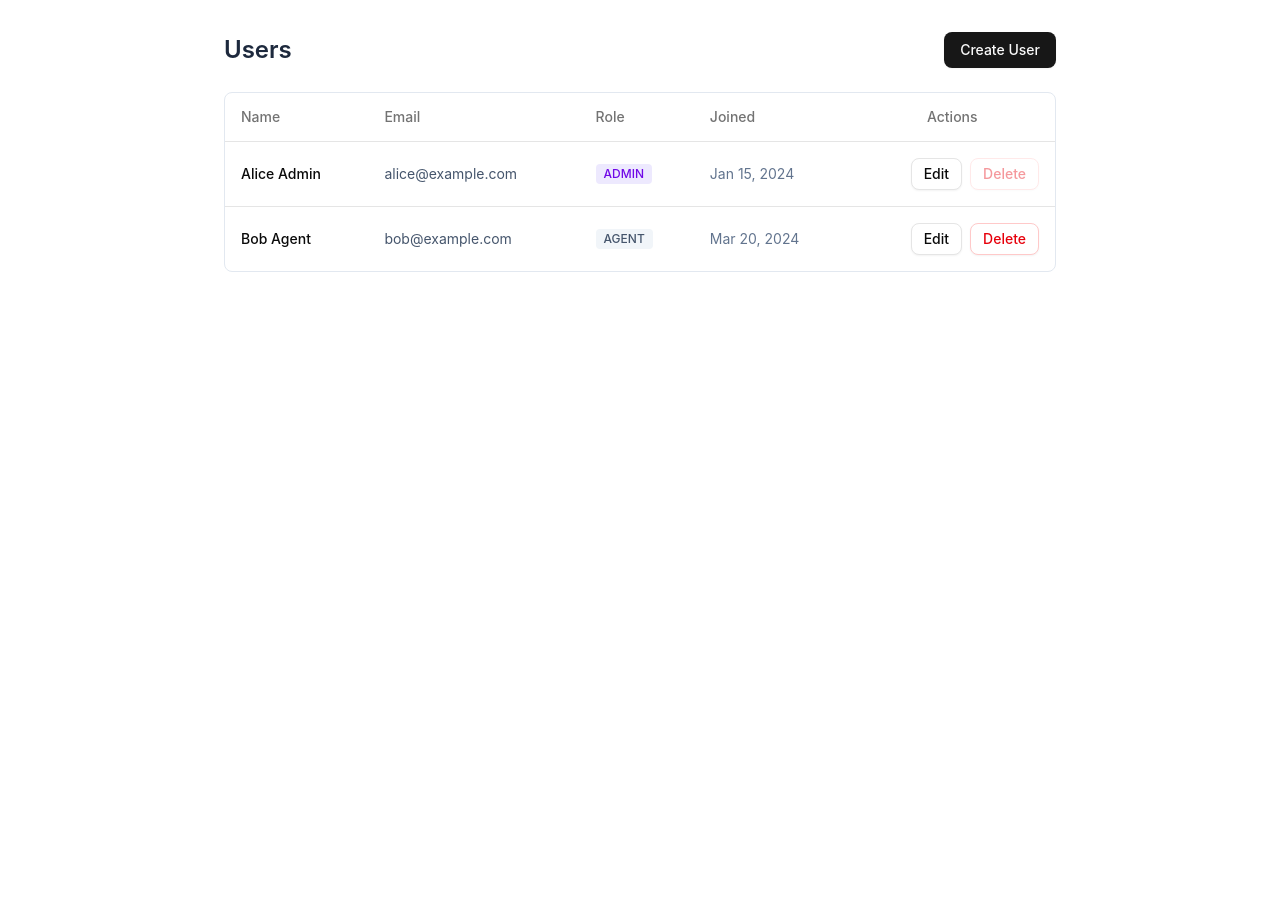
Test: UsersPage › modal › opens the Edit User modal when Edit is clicked
Expected: the text "Alice Admin" is shown, [225,141,368,206]
Click the button "Edit" in the row of "Alice Admin" at (936, 174), box [911,158,962,190]
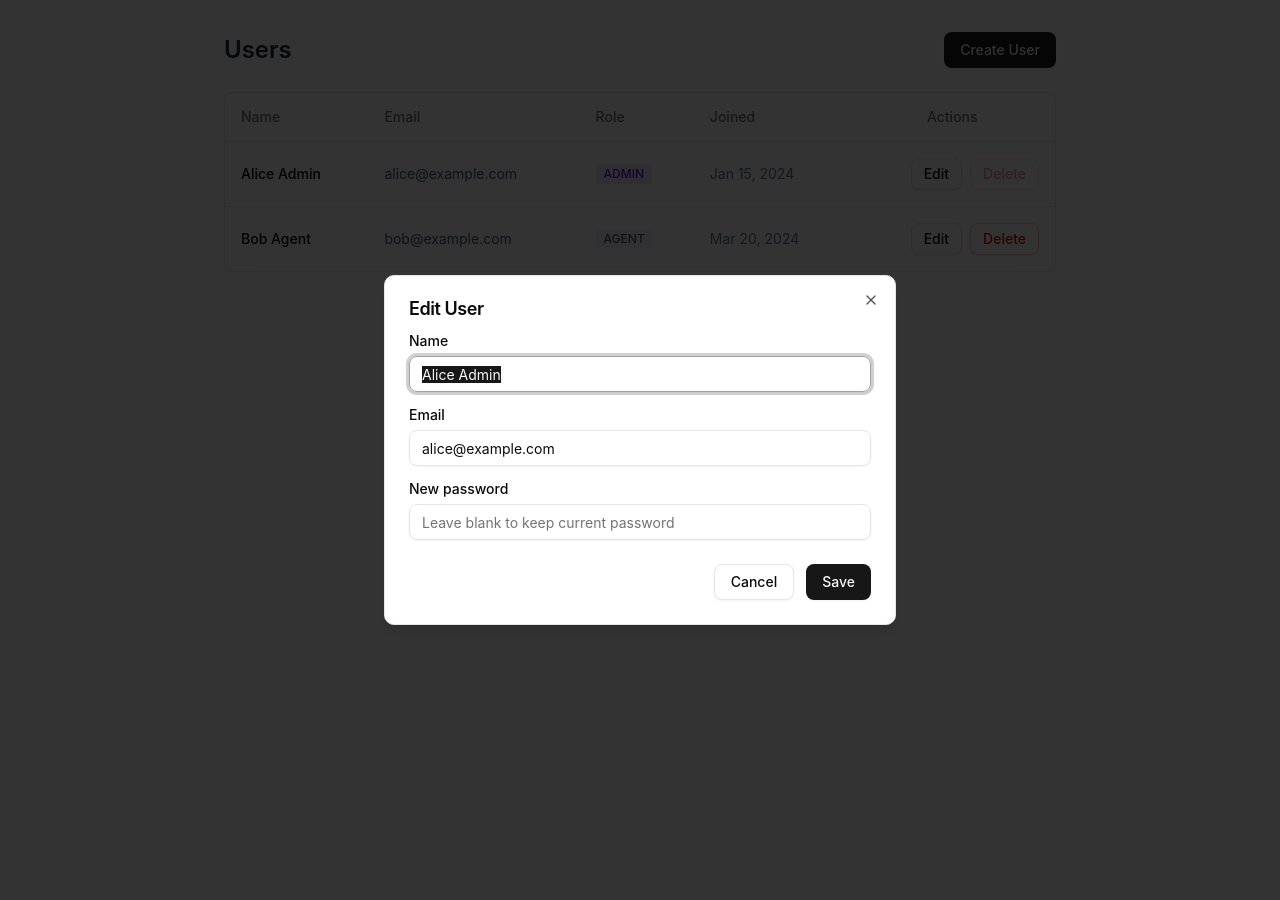
Expected: the heading "Edit User" is shown, [409,298,484,319]
Expected: the field labelled "Name" holds "Alice Admin", [409,356,871,392]
